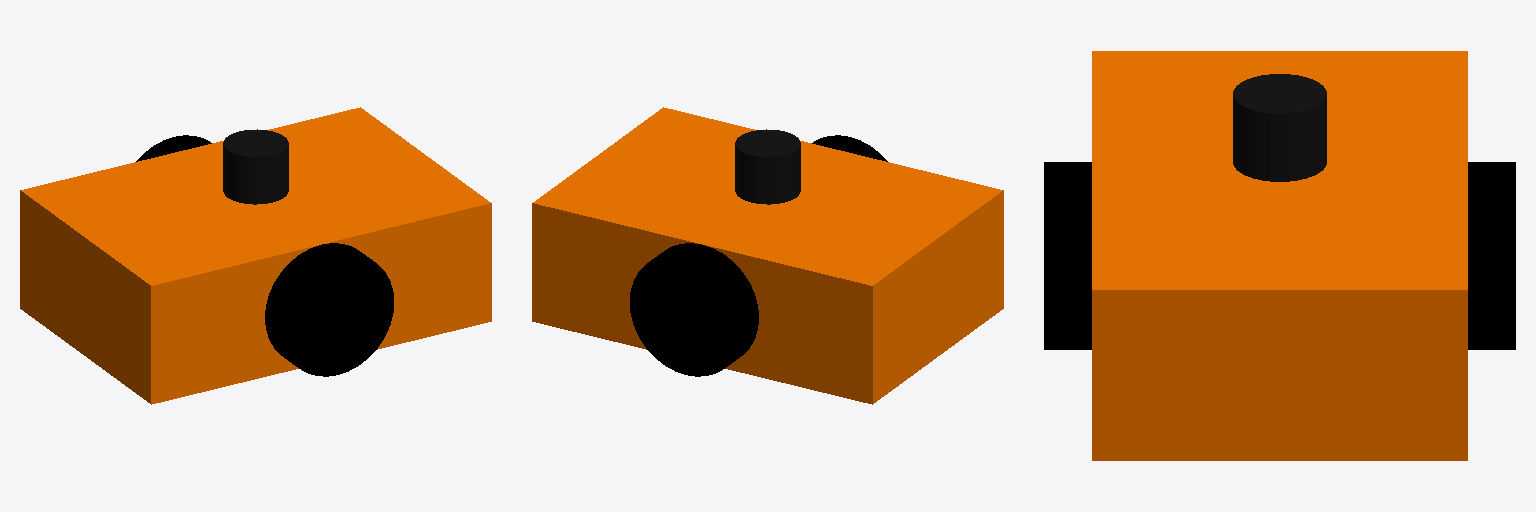
The robot description file, URDF, robot "construction_robot":
<?xml version="1.0"?>
<robot name="construction_robot">

  <link name="base_footprint" />

  <joint name="base_joint" type="fixed">
    <parent link="base_footprint" />
    <child link="base_link" />
    <origin xyz="0 0 0" rpy="0 0 0" />
  </joint>

  <link name="base_link">
    <visual>
      <origin xyz="0 0 0.1" rpy="0 0 0" />
      <geometry>
        <box size="0.6 0.4 0.2" />
      </geometry>
      <material name="orange">
        <color rgba="1.0 0.5 0.0 1.0" />
      </material>
    </visual>
    <collision>
      <origin xyz="0 0 0.1" rpy="0 0 0" />
      <geometry>
        <box size="0.6 0.4 0.2" />
      </geometry>
    </collision>
    <inertial>
      <origin xyz="0 0 0.1" rpy="0 0 0" />
      <mass value="5.0" />
      <inertia ixx="0.1" ixy="0" ixz="0" iyy="0.1" iyz="0" izz="0.1" />
    </inertial>
  </link>

  <link name="left_wheel">
    <visual>
      <geometry>
        <cylinder length="0.05" radius="0.1" />
      </geometry>
      <material name="black">
        <color rgba="0 0 0 1" />
      </material>
    </visual>
    <collision>
      <geometry>
        <cylinder length="0.05" radius="0.1" />
      </geometry>
    </collision>
    <inertial>
      <mass value="0.5" />
      <inertia ixx="0.01" ixy="0" ixz="0" iyy="0.01" iyz="0" izz="0.01" />
    </inertial>
  </link>

  <joint name="left_wheel_joint" type="continuous">
    <parent link="base_link" />
    <child link="left_wheel" />
    <origin xyz="0 0.225 0.1" rpy="1.5708 0 0" />
    <axis xyz="0 0 1" />
  </joint>

  <link name="right_wheel">
    <visual>
      <geometry>
        <cylinder length="0.05" radius="0.1" />
      </geometry>
      <material name="black">
        <color rgba="0 0 0 1" />
      </material>
    </visual>
    <collision>
      <geometry>
        <cylinder length="0.05" radius="0.1" />
      </geometry>
    </collision>
    <inertial>
      <mass value="0.5" />
      <inertia ixx="0.01" ixy="0" ixz="0" iyy="0.01" iyz="0" izz="0.01" />
    </inertial>
  </link>

  <joint name="right_wheel_joint" type="continuous">
    <parent link="base_link" />
    <child link="right_wheel" />
    <origin xyz="0 -0.225 0.1" rpy="1.5708 0 0" />
    <axis xyz="0 0 1" />
  </joint>

  <link name="caster_wheel">
    <visual>
      <geometry>
        <sphere radius="0.05" />
      </geometry>
      <material name="black">
        <color rgba="0 0 0 1" />
      </material>
    </visual>
    <collision>
      <geometry>
        <sphere radius="0.05" />
      </geometry>
    </collision>
    <inertial>
      <mass value="0.1" />
      <inertia ixx="0.001" ixy="0" ixz="0" iyy="0.001" iyz="0" izz="0.001" />
    </inertial>
  </link>

  <joint name="caster_joint" type="fixed">
    <parent link="base_link" />
    <child link="caster_wheel" />
    <origin xyz="0.2 0 0.05" rpy="0 0 0" />
  </joint>

    <!-- LEFT WHEEL FRICTION -->
  <gazebo reference="left_wheel">
    <mu1>100.0</mu1>
    <mu2>100.0</mu2>
    <kp>1000000.0</kp>
    <kd>100.0</kd>
    <minDepth>0.005</minDepth>
    <maxVel>1.0</maxVel>
    <material>Gazebo/Black</material>
  </gazebo>

  <!-- RIGHT WHEEL FRICTION -->
  <gazebo reference="right_wheel">
    <mu1>100.0</mu1>
    <mu2>100.0</mu2>
    <kp>1000000.0</kp>
    <kd>100.0</kd>
    <minDepth>0.005</minDepth>
    <maxVel>1.0</maxVel>
    <material>Gazebo/Black</material>
  </gazebo>

  <!-- CASTER WHEEL FRICTION (lower, so it doesn't fight the drive wheels) -->
  <gazebo reference="caster_wheel">
    <mu1>0.1</mu1>
    <mu2>0.1</mu2>
    <material>Gazebo/Black</material>
  </gazebo>

    <gazebo>
    <plugin name="diff_drive" filename="libgazebo_ros_diff_drive.so">
      <left_joint>left_wheel_joint</left_joint>
      <right_joint>right_wheel_joint</right_joint>
      <wheel_separation>0.45</wheel_separation>
      <wheel_diameter>0.2</wheel_diameter>

      <max_wheel_torque>20</max_wheel_torque>
      <max_wheel_acceleration>1.0</max_wheel_acceleration>

      <odometry_frame>odom</odometry_frame>
      <robot_base_frame>base_footprint</robot_base_frame>
      <publish_odom>true</publish_odom>
      <publish_odom_tf>true</publish_odom_tf>
      <publish_wheel_tf>true</publish_wheel_tf>
    </plugin>
  </gazebo>

  <!-- Lidar Link -->
  <link name="lidar_link">
    <visual>
      <geometry>
        <cylinder radius="0.05" length="0.08" />
      </geometry>
      <material name="black">
        <color rgba="0.1 0.1 0.1 1.0" />
      </material>
    </visual>
    <collision>
      <geometry>
        <cylinder radius="0.05" length="0.08" />
      </geometry>
    </collision>
    <inertial>
      <mass value="0.2" />
      <inertia ixx="0.0001" ixy="0" ixz="0" iyy="0.0001" iyz="0" izz="0.0001" />
    </inertial>
  </link>

  <!-- Lidar Joint (attached to base_link) -->
  <joint name="lidar_joint" type="fixed">
    <parent link="base_link" />
    <child link="lidar_link" />
    <origin xyz="0 0 0.25" rpy="0 0 0" />
  </joint>

  <gazebo reference="base_link">
    <material>Gazebo/Orange</material>
  </gazebo>
  <gazebo reference="left_wheel">
    <material>Gazebo/Black</material>
  </gazebo>
  <gazebo reference="right_wheel">
    <material>Gazebo/Black</material>
  </gazebo>
  <gazebo reference="caster_wheel">
    <material>Gazebo/Black</material>
  </gazebo>
  <!-- Lidar Sensor Plugin -->
  <gazebo reference="lidar_link">
    <sensor name="lidar_sensor" type="ray">
      <pose>0 0 0 0 0 0</pose>
      <visualize>true</visualize>
      <update_rate>10</update_rate>
      <ray>
        <scan>
          <horizontal>
            <samples>360</samples>
            <resolution>1</resolution>
            <min_angle>-3.14159</min_angle>
            <max_angle>3.14159</max_angle>
          </horizontal>
        </scan>
        <range>
          <min>0.12</min>
          <max>10.0</max>
          <resolution>0.015</resolution>
        </range>
      </ray>
      <plugin name="lidar_controller" filename="libgazebo_ros_ray_sensor.so">
        <ros>
          <remapping>~/out:=scan</remapping>
        </ros>
        <output_type>sensor_msgs/LaserScan</output_type>
        <frame_name>lidar_link</frame_name>
      </plugin>
    </sensor>
  </gazebo>



    <!-- IMU Link -->
  <link name="imu_link">
    <visual>
      <geometry>
        <box size="0.05 0.05 0.02" />
      </geometry>
      <material name="green">
        <color rgba="0.0 1.0 0.0 1.0" />
      </material>
    </visual>
    <collision>
      <geometry>
        <box size="0.05 0.05 0.02" />
      </geometry>
    </collision>
    <inertial>
      <mass value="0.01" />
      <inertia ixx="0.000001" ixy="0" ixz="0" iyy="0.000001" iyz="0" izz="0.000001" />
    </inertial>
  </link>

  <!-- IMU Joint -->
  <joint name="imu_joint" type="fixed">
    <parent link="base_link" />
    <child link="imu_link" />
    <origin xyz="0 0 0.15" rpy="0 0 0" />
  </joint>

  <!-- IMU Sensor Plugin -->
  <gazebo reference="imu_link">
    <sensor name="imu_sensor" type="imu">
      <always_on>true</always_on>
      <!-- Increase this if the data feels slow/stuttery -->
      <update_rate>100</update_rate> 
      <visualize>true</visualize>
      <topic>imu</topic>
      <plugin name="imu_controller" filename="libgazebo_ros_imu_sensor.so">
        <ros>
          <remapping>~/out:=imu</remapping>
        </ros>
        <output_type>sensor_msgs/Imu</output_type>
        <frame_name>imu_link</frame_name>
        <initial_orientation_as_reference>false</initial_orientation_as_reference>
      </plugin>
      <imu>
        <noise>
          <type>gaussian</type>
          <mean>0.0</mean>
          <stddev>2e-4</stddev>
        </noise>
      </imu>
    </sensor>
  </gazebo>

</robot>

--- What the picture shows (computed from the rendered views, not written in the file) ---
The picture shows the robot from 3 angles, left to right: view 1: azimuth 30°, elevation 25°; view 2: azimuth 150°, elevation 25°; view 3: azimuth 270°, elevation 25°; orthographic projection.
Robot: construction_robot — 7 links, 6 joints (2 continuous, 4 fixed); root link base_footprint; default pose: all joints at 0.
Visible links, largest first — view 1: base_link, right_wheel, lidar_link, left_wheel; view 2: base_link, left_wheel, lidar_link, right_wheel; view 3: base_link, lidar_link, left_wheel, right_wheel.
Link boxes in pixels (x1,y1,x2,y2): base_link: [20, 107, 491, 404]; right_wheel: [265, 243, 393, 376]; lidar_link: [223, 129, 288, 204]; left_wheel: [136, 135, 211, 161]; base_link: [532, 107, 1003, 404]; left_wheel: [630, 243, 758, 376]; lidar_link: [735, 129, 800, 204]; right_wheel: [812, 135, 887, 161]; base_link: [1092, 51, 1467, 460]; lidar_link: [1233, 74, 1326, 181]; left_wheel: [1468, 162, 1515, 349]; right_wheel: [1044, 162, 1091, 349].
Bounding box of the posed robot: 0.6 × 0.5 × 0.29 m (x, y, z).
Geometry: primitives only (box / cylinder / sphere), no mesh files.
